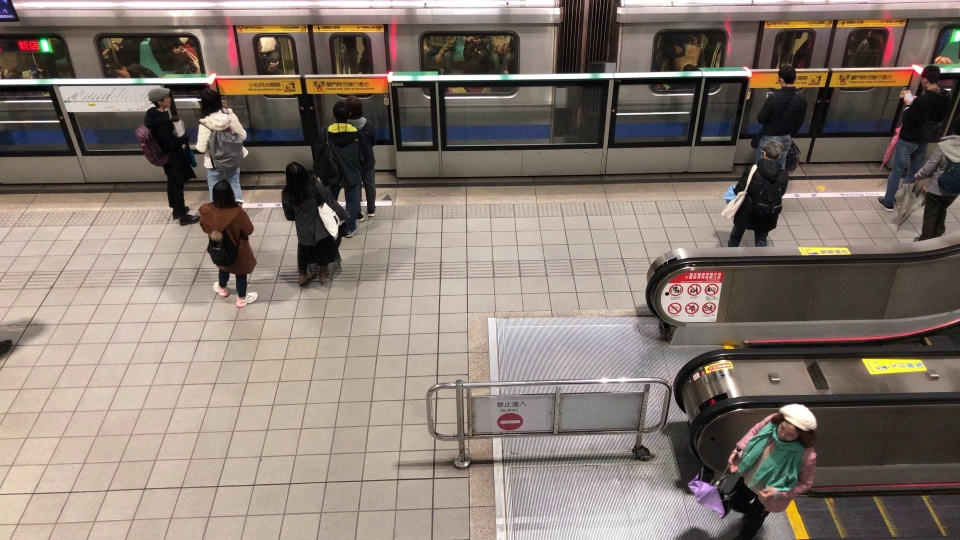person_head: (774, 404, 813, 444), (206, 181, 238, 212), (198, 88, 223, 118), (283, 158, 306, 188), (916, 65, 942, 91), (146, 85, 172, 110), (757, 141, 784, 162), (343, 94, 364, 118), (776, 64, 797, 87), (331, 102, 349, 123), (947, 126, 960, 139)
person_vbox: (706, 403, 817, 539), (876, 64, 959, 214), (130, 85, 200, 227), (276, 158, 350, 288), (193, 181, 263, 308), (717, 141, 788, 251), (191, 85, 251, 205), (906, 126, 960, 244), (319, 102, 362, 243), (754, 64, 804, 173), (341, 95, 382, 224)
